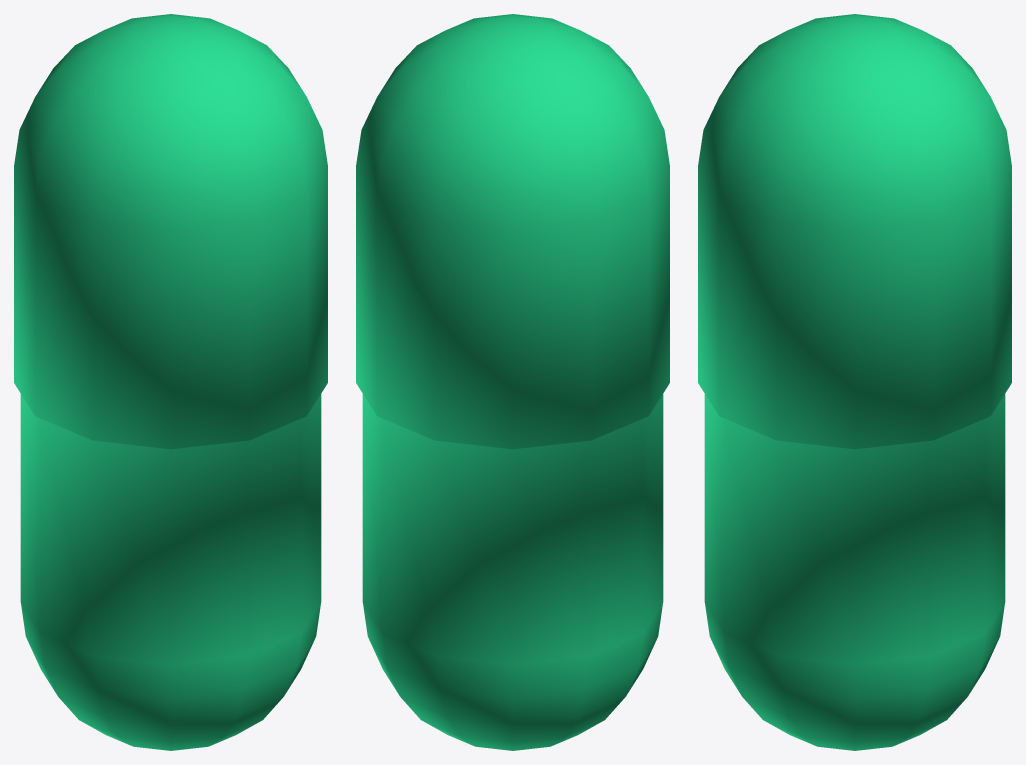
The model's file is Pill.fbx.
3 renders of one model, left to right at view 1: azimuth 30°, elevation 25°; view 2: azimuth 150°, elevation 25°; view 3: azimuth 270°, elevation 25°, orthographic.
Parts seen in each view (by area): view 1: Pill; view 2: Pill; view 3: Pill.
Boxes of the visible parts, x1,y1,x2,y2 form: Pill: (14, 14, 327, 750); Pill: (356, 14, 669, 750); Pill: (698, 14, 1011, 750).
Size of the model in its own units: 1.04 by 2.6 by 1.04.
